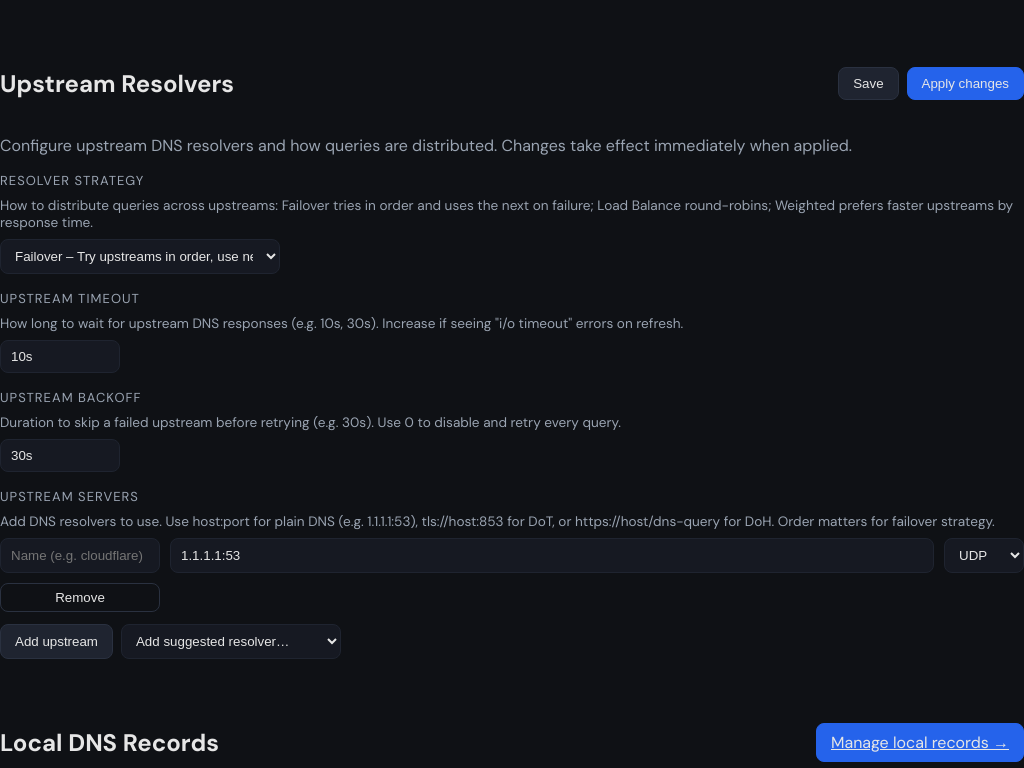
Test: DnsPage - end-to-end rendering › shows confirm dialog when Apply changes is clicked
Click the button "Apply changes" at (965, 83), box [907,67,1023,100]
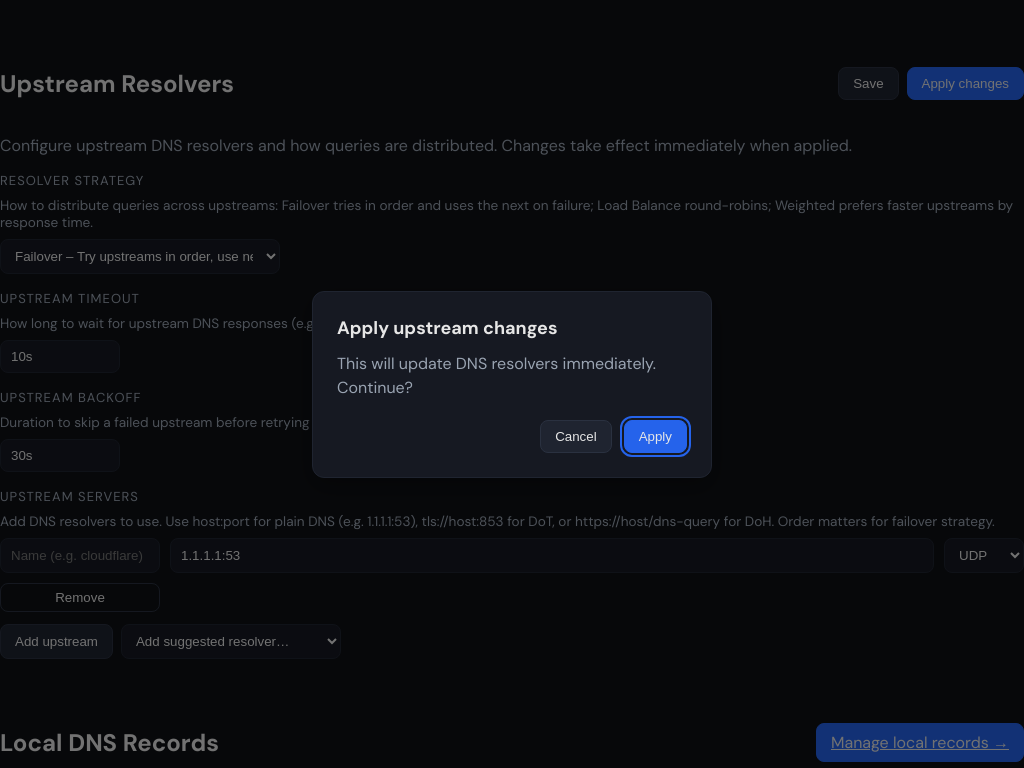
Expected: the dialog is shown
Expected: the dialog shows "Apply", [624,420,687,452]
